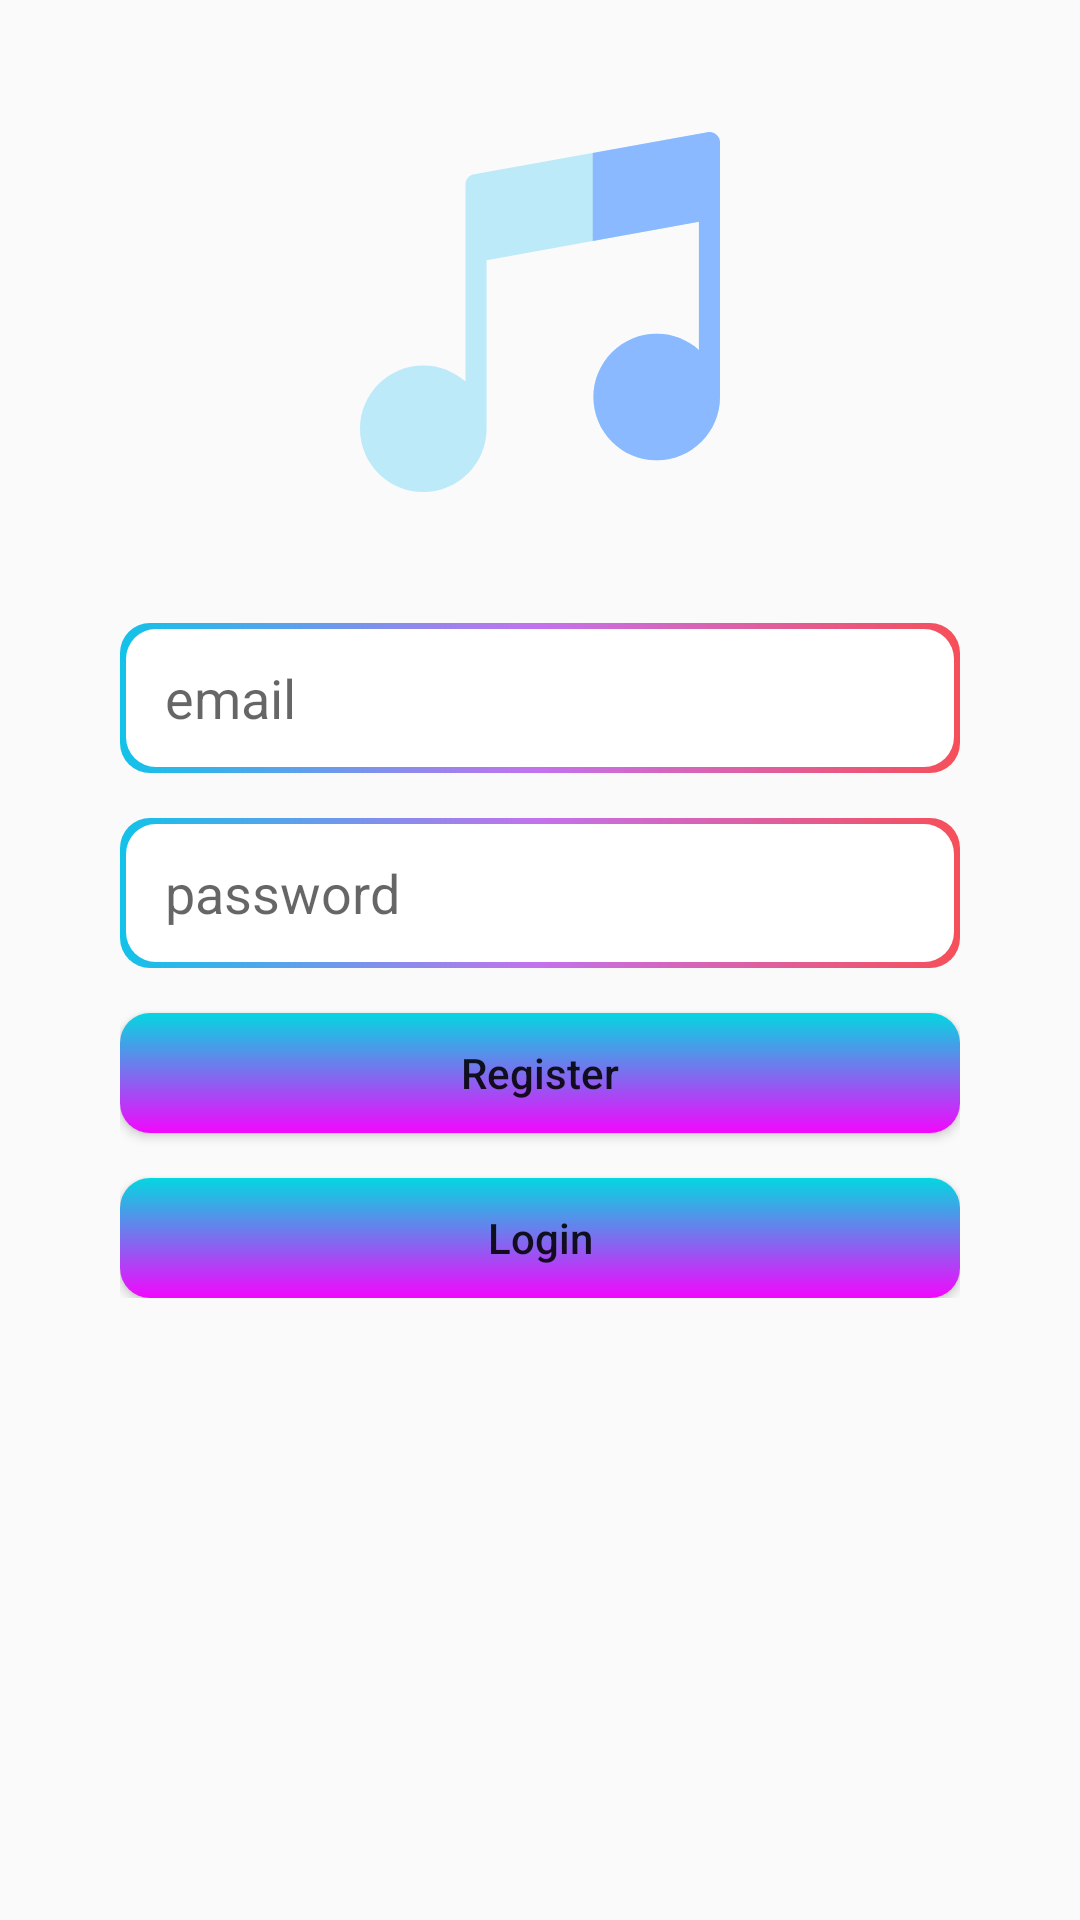

Where to tap for icons on this 1080*1920 app screen, as (x=x, y=y):
music: (x=540, y=312)
